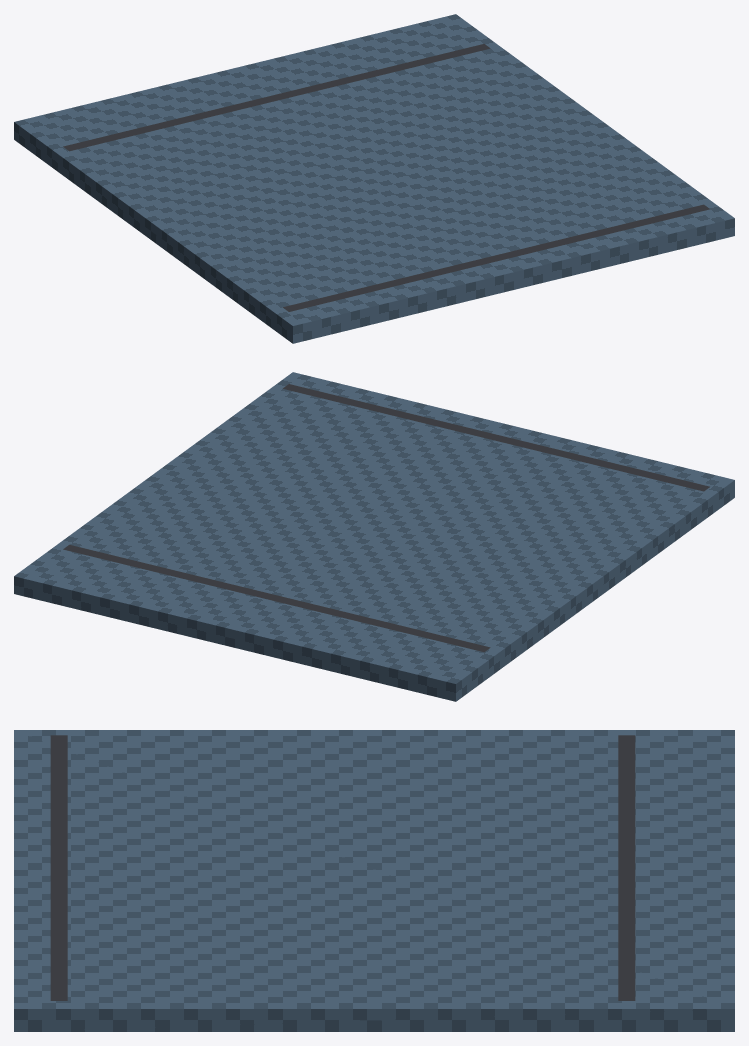
The model's file is sheet_denim.glb.
The picture shows the model from 3 angles, top to bottom: view 1: azimuth 30°, elevation 25°; view 2: azimuth 150°, elevation 25°; view 3: azimuth 270°, elevation 25°; orthographic projection. The views are drawn at different scales.
Visible parts, largest first — view 1: block_flat stock, block_edge crease (×2); view 2: block_flat stock, block_edge crease (×2); view 3: block_flat stock, block_edge crease (×2).
Boxes of the visible parts, x1,y1,x2,y2 form: block_flat stock: (14,14,734,343); block_edge crease (×2): (63,44,709,311); block_flat stock: (14,372,734,701); block_edge crease (×2): (63,384,709,652); block_flat stock: (14,730,734,1031); block_edge crease (×2): (50,735,635,1000).
Size of the model in its own units: 0.1315 by 0.00535 by 0.1437.
Materials: 1 (1 with a texture image).
